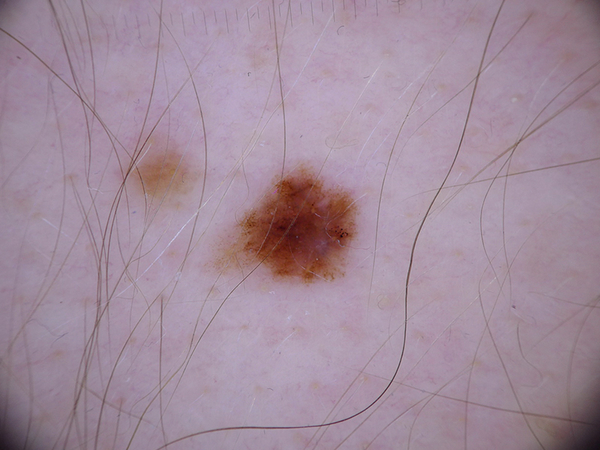Detected Lesion: (237, 160, 369, 290)
